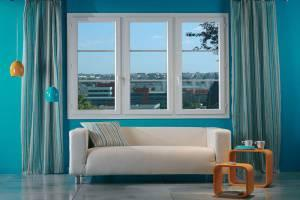window: (65, 12, 229, 119)
